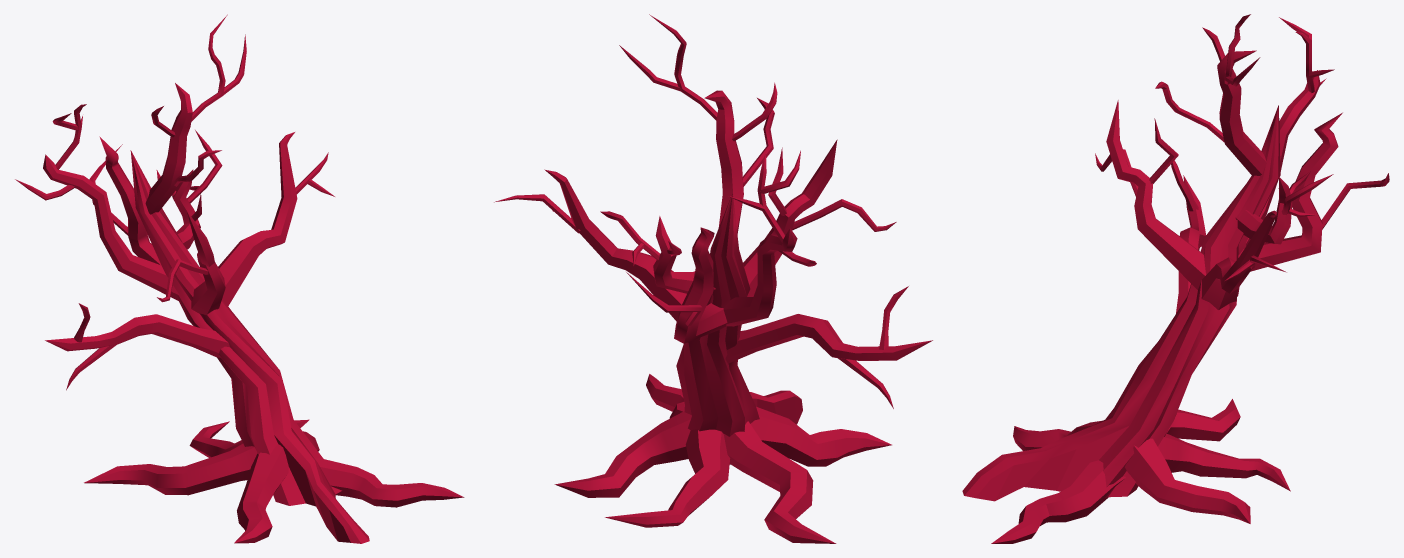
File: RottenTree.fbx
3 views of the same model, side by side, from view 1: azimuth 30°, elevation 25°; view 2: azimuth 150°, elevation 25°; view 3: azimuth 270°, elevation 25° (orthographic). The views are drawn at different scales.
Parts seen in each view (by area): view 1: RottenTree; view 2: RottenTree; view 3: RottenTree.
Part boxes in pixels (left/top/right/bottom): RottenTree: left=15, top=14, right=464, bottom=543; RottenTree: left=494, top=14, right=932, bottom=543; RottenTree: left=962, top=14, right=1389, bottom=543.
Bounding box in the file's own units: 589 × 742 × 597.
